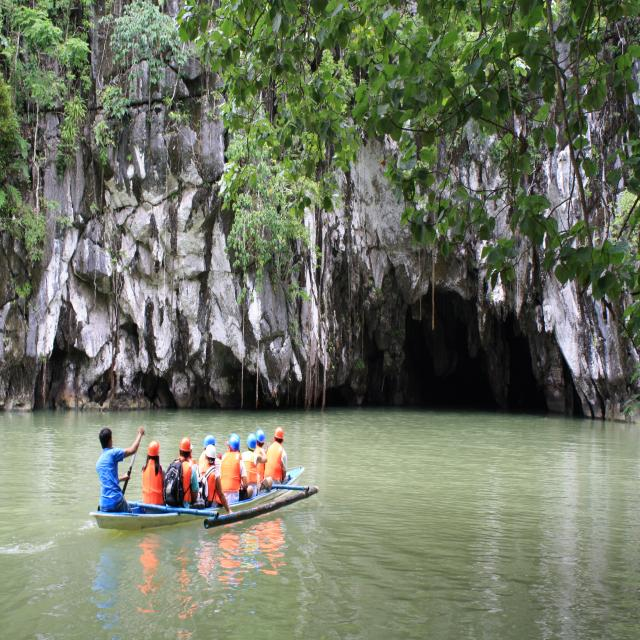body: (94, 422, 148, 532), (163, 436, 206, 509), (195, 443, 234, 516), (218, 436, 254, 505), (241, 432, 273, 498), (140, 439, 168, 507), (263, 426, 287, 486), (253, 428, 272, 483), (198, 434, 218, 467), (228, 432, 242, 452), (190, 440, 198, 470)
